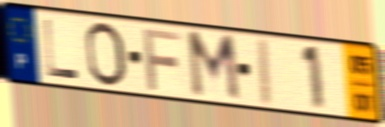1: (300, 44, 327, 111)
F: (140, 25, 184, 93)
I: (258, 35, 276, 109)
L: (41, 16, 82, 82)
M: (184, 29, 243, 105)
O: (83, 20, 130, 89)
